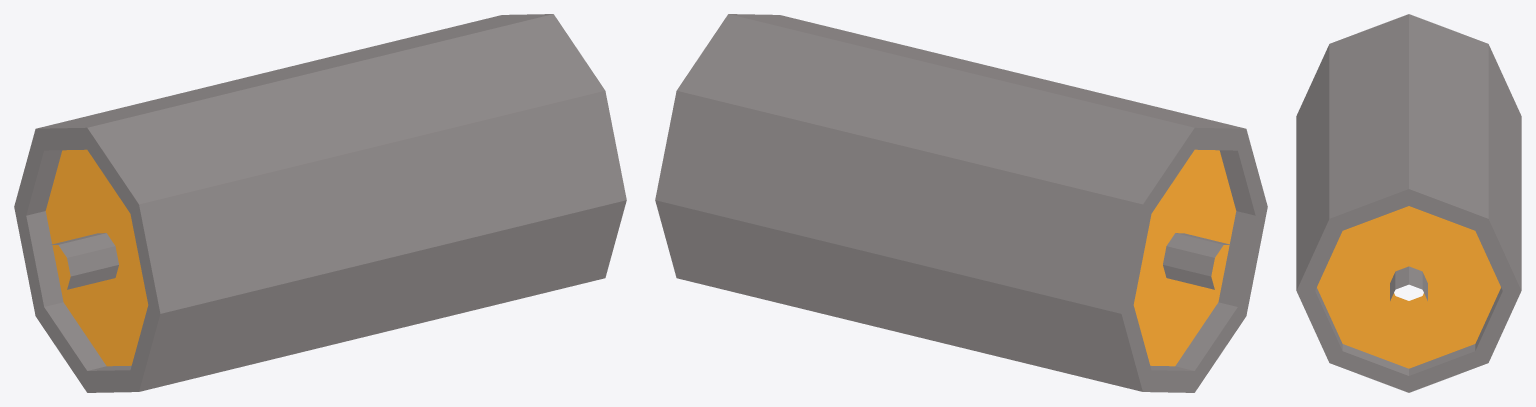
Rendered from road-roller-cylinder.glb.
3 views of the same model, side by side, from view 1: azimuth 30°, elevation 25°; view 2: azimuth 150°, elevation 25°; view 3: azimuth 270°, elevation 25° (orthographic). The views are drawn at different scales.
Visible parts, largest first — view 1: road-roller-cylinder; view 2: road-roller-cylinder; view 3: road-roller-cylinder.
Boxes of the visible parts, left/top/right/bottom form: road-roller-cylinder: left=14, top=14, right=626, bottom=392; road-roller-cylinder: left=655, top=14, right=1267, bottom=392; road-roller-cylinder: left=1296, top=14, right=1521, bottom=392.
Size of the model in its own units: 2.7 by 1.31 by 1.31.
Materials: 1 (1 with a texture image).
